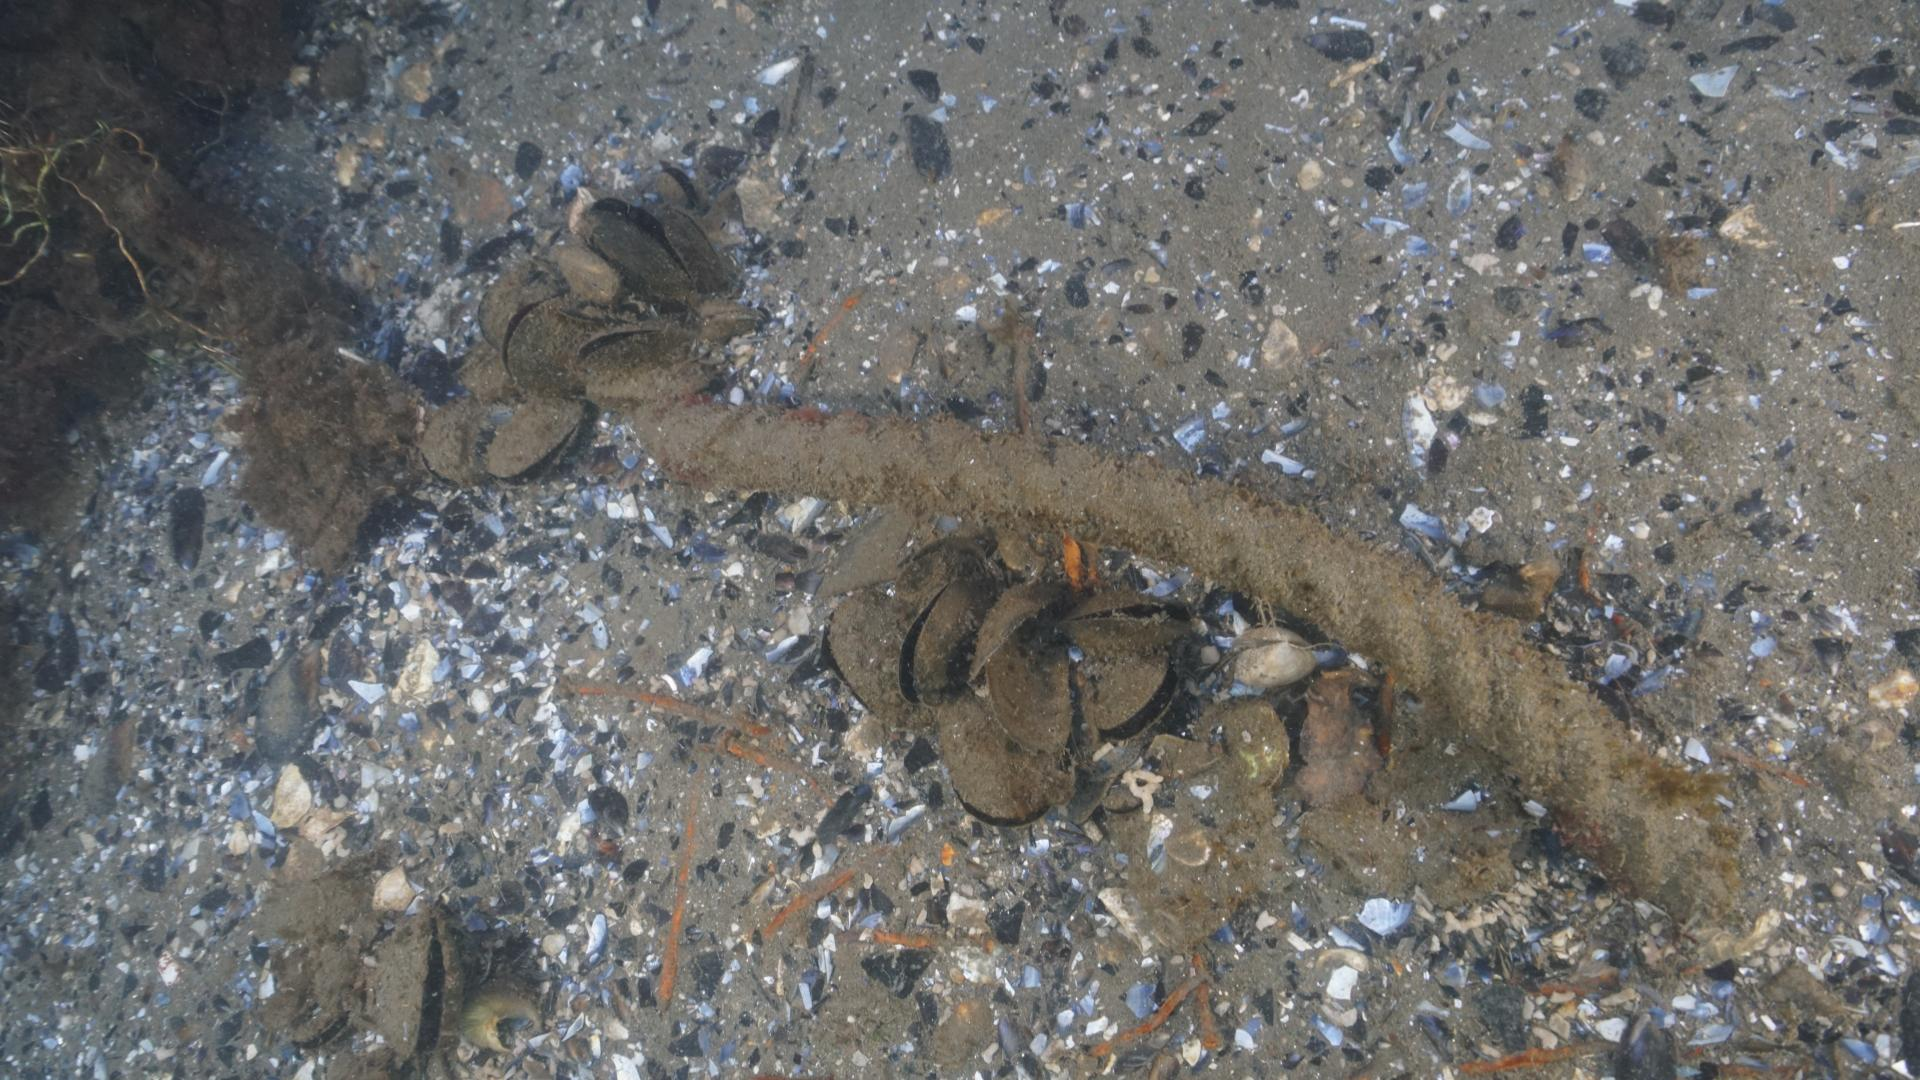rope: (620, 397, 1753, 928)
